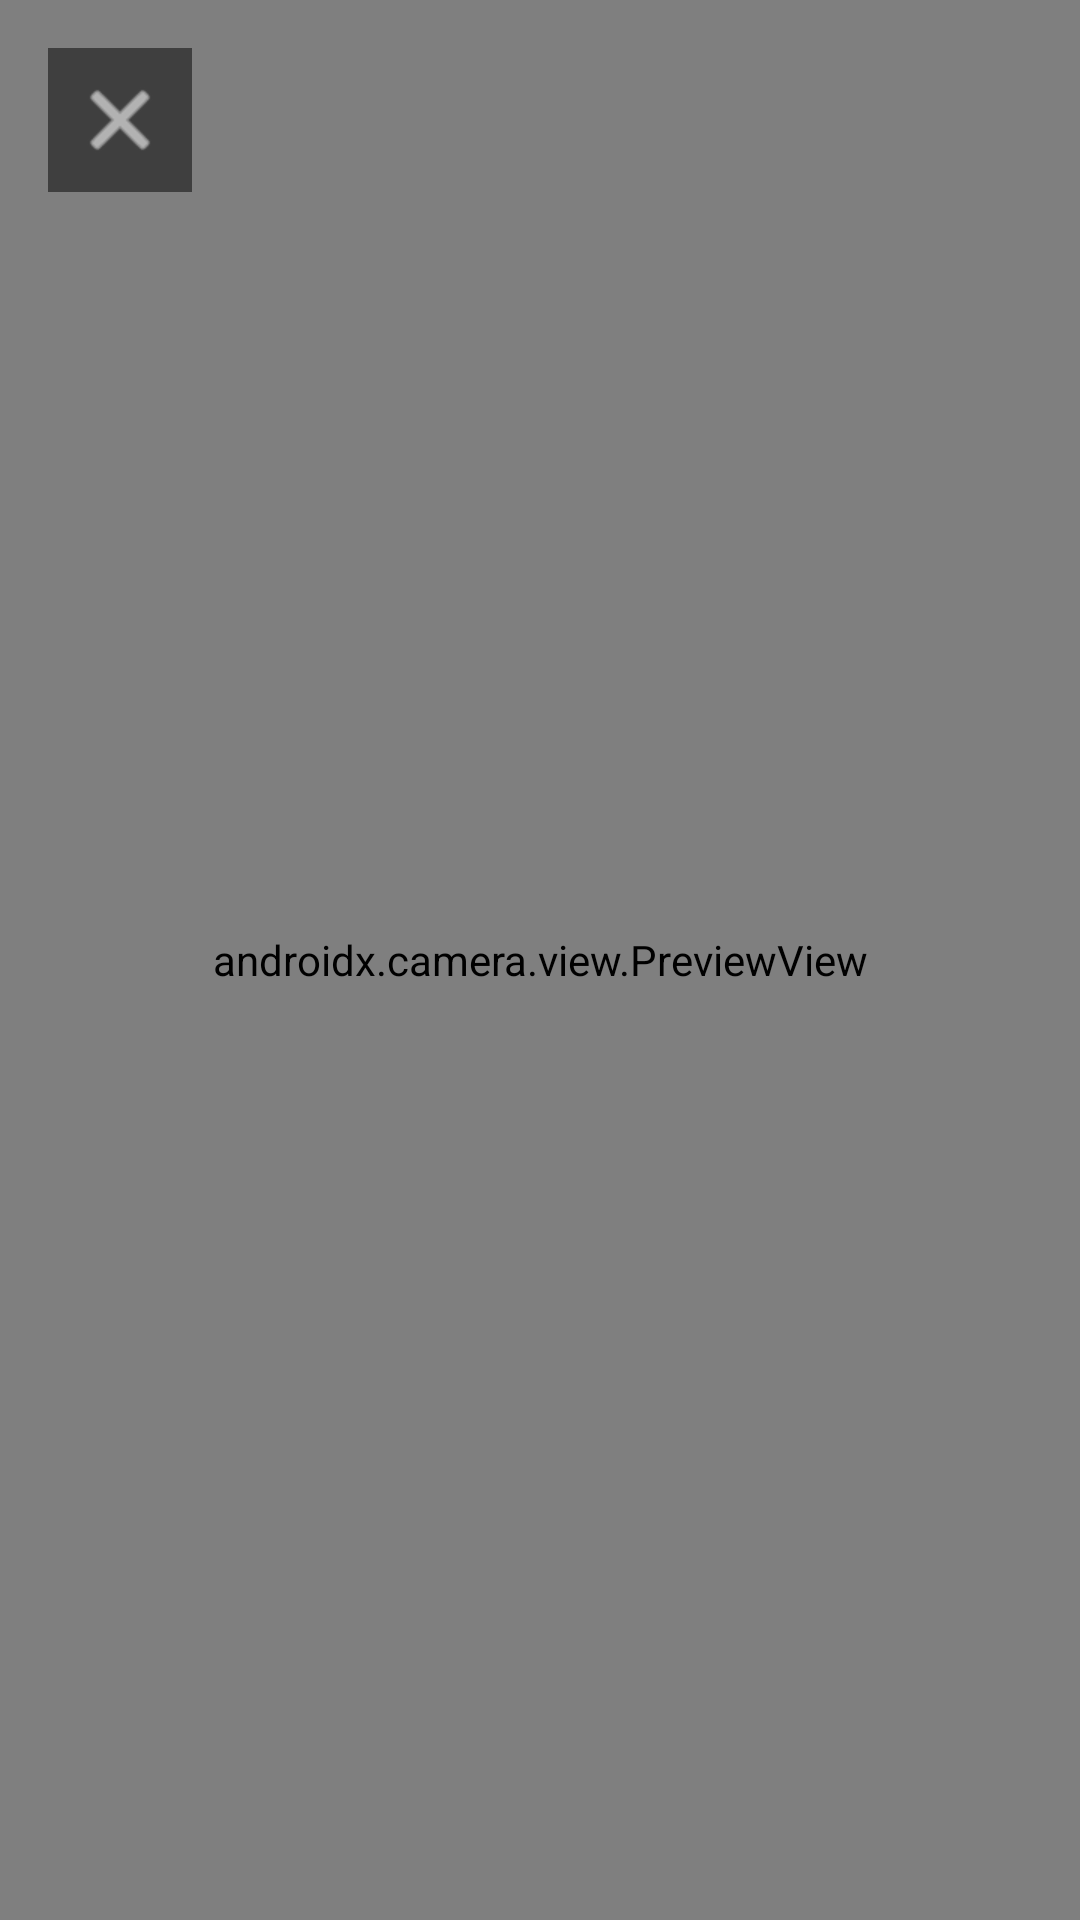

Point at icon controls on the screen. Image size 1080x1920, points as (x,y).
close clear cancel: (120,120)
